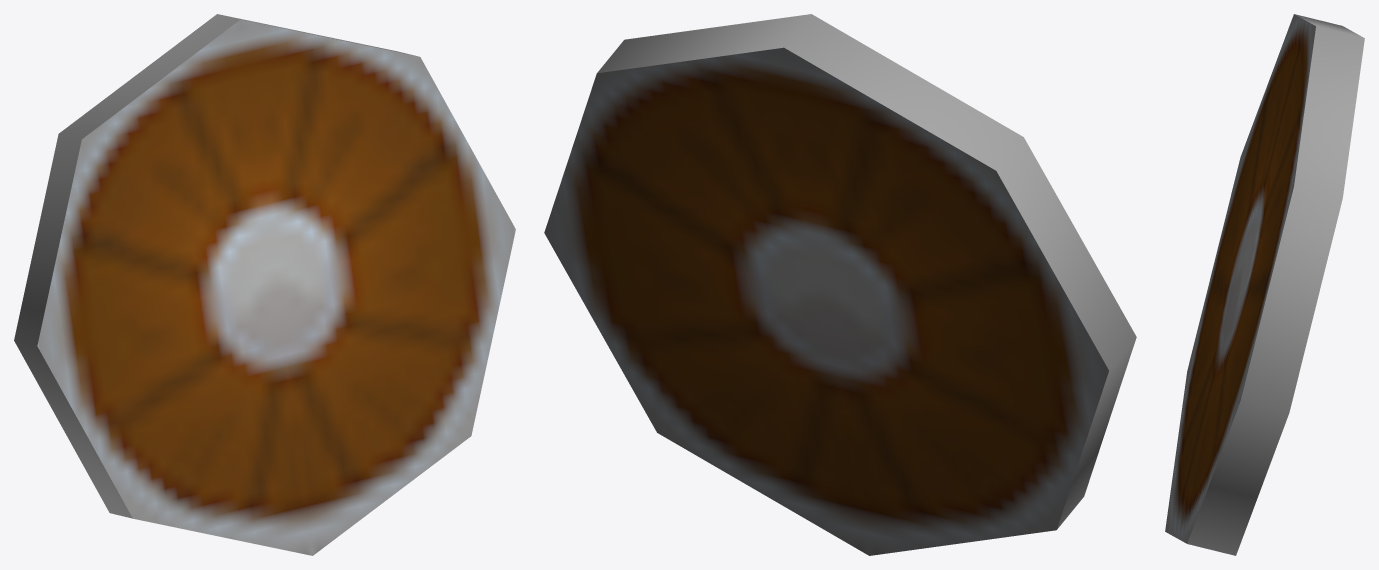
Rendered from building_Armor_shield01.FBX.
The picture shows the model from 3 angles, left to right: view 1: azimuth 30°, elevation 25°; view 2: azimuth 150°, elevation 25°; view 3: azimuth 270°, elevation 25°; orthographic projection. The views are drawn at different scales.
Parts seen in each view (by area): view 1: building_Armor_shield01; view 2: building_Armor_shield01; view 3: building_Armor_shield01.
Boxes of the visible parts, x1,y1,x2,y2 form: building_Armor_shield01: (14, 14, 515, 555); building_Armor_shield01: (544, 14, 1136, 555); building_Armor_shield01: (1165, 14, 1364, 555).
Size of the model in its own units: 56.27 by 55.6 by 19.46.
